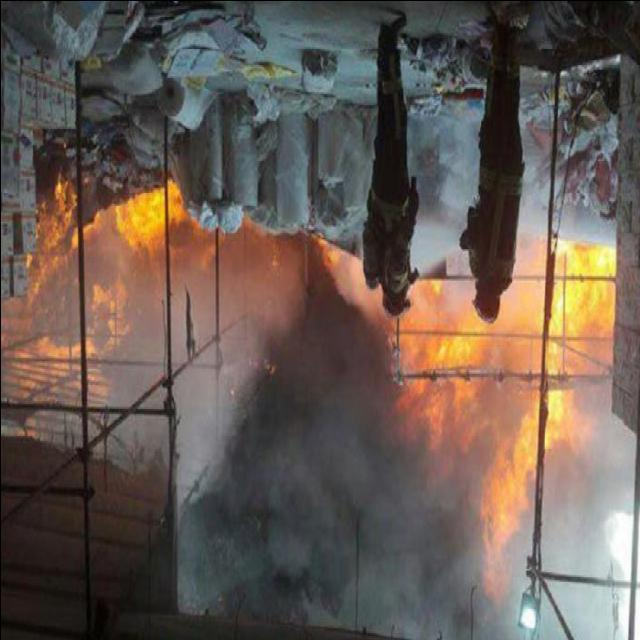Fire: (386, 227, 606, 555), (0, 155, 179, 424)
